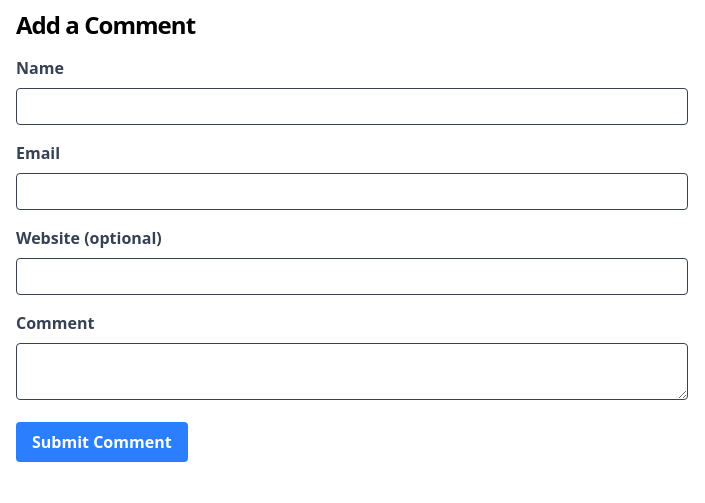
it: CommentForm validation › shows email format error when email is invalid
The image size is (705, 503).
Type "Alice" into the field labelled "Name". click: (352, 106)
box: [16,88,688,125]
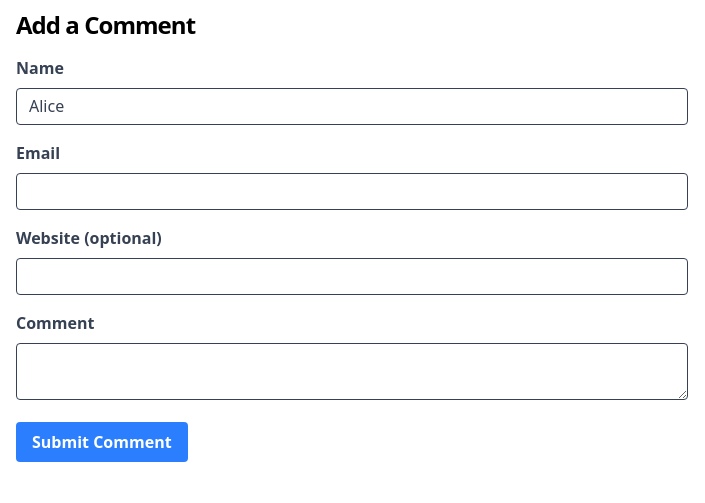
Type "not-an-email" into the field labelled "Email". click: (352, 192)
box: [16,173,688,210]
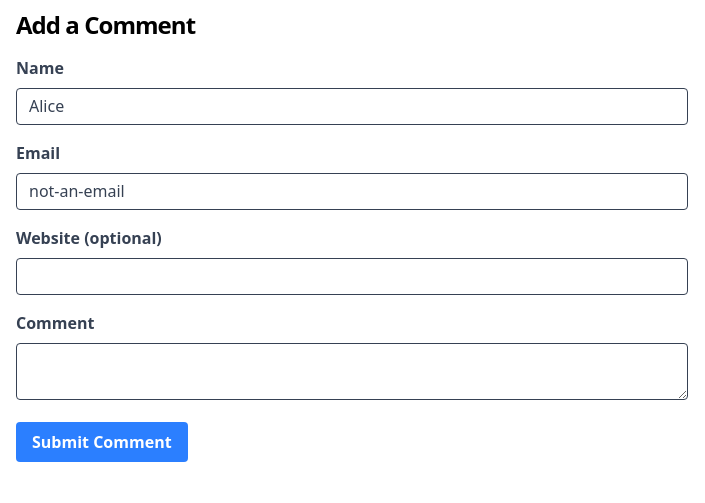
Type "Hello" into the text box labelled "Comment". click: (352, 372)
box: [16,343,688,400]
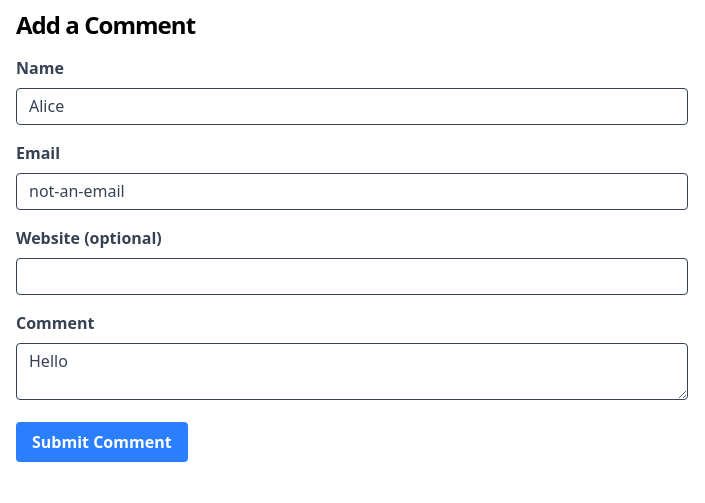
Submit the text "Submit Comment"
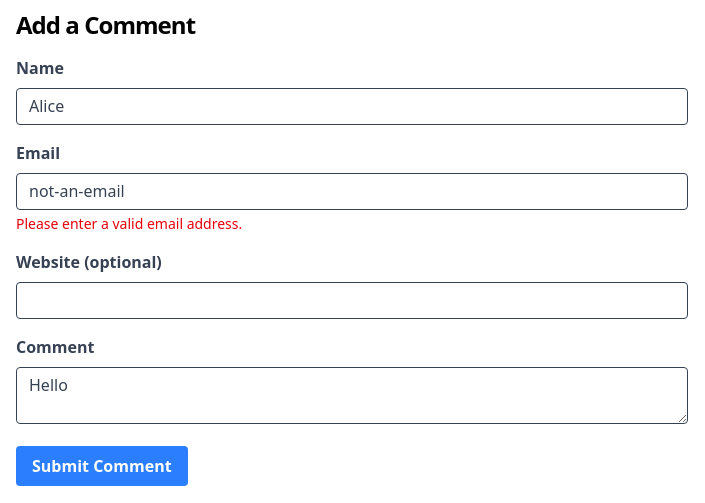
Expected: the text "Please enter a valid email address." is shown, [16,214,242,233]
